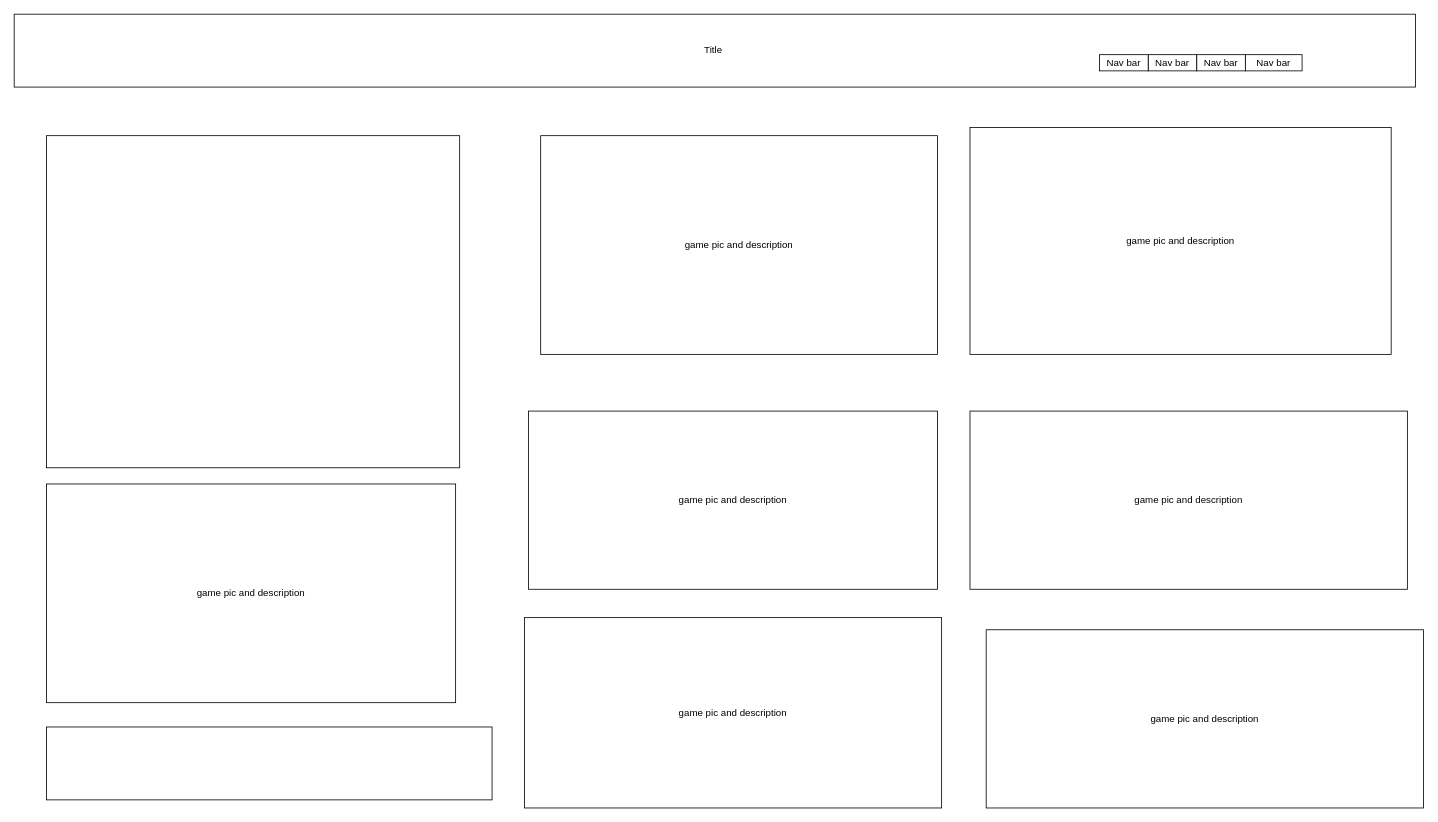
Some shapes in this 1438 by 822 pixel diagram are drawn without their labels. Here are the shapes that lost their labels. From the top down, the centre of each, then its label:
(253,301): table of games ifo
(269,763): call to action link to places to play
